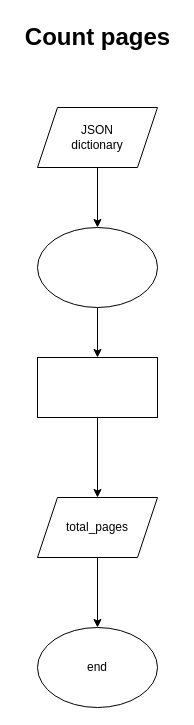
This 194x725 diagram has some shape labels left out. Each missing label, with the box of its shape:
Counter(pages): (36, 356, 158, 418)
start: (36, 226, 158, 308)
